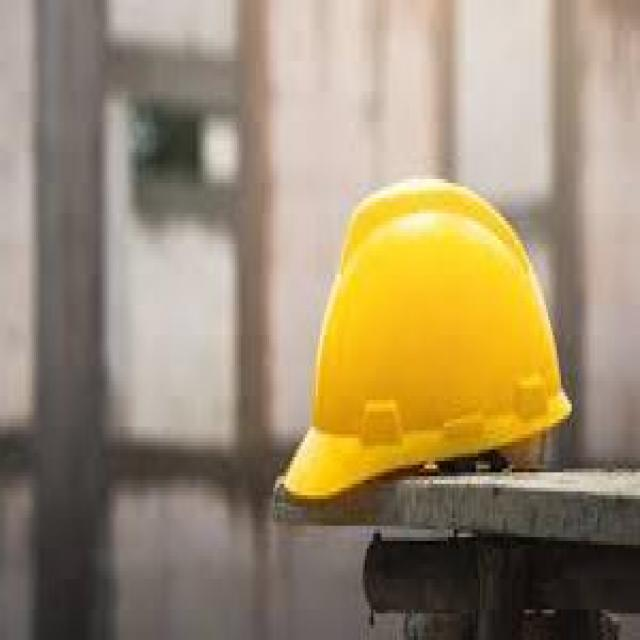Safety-Helmet: (269, 168, 593, 522)
